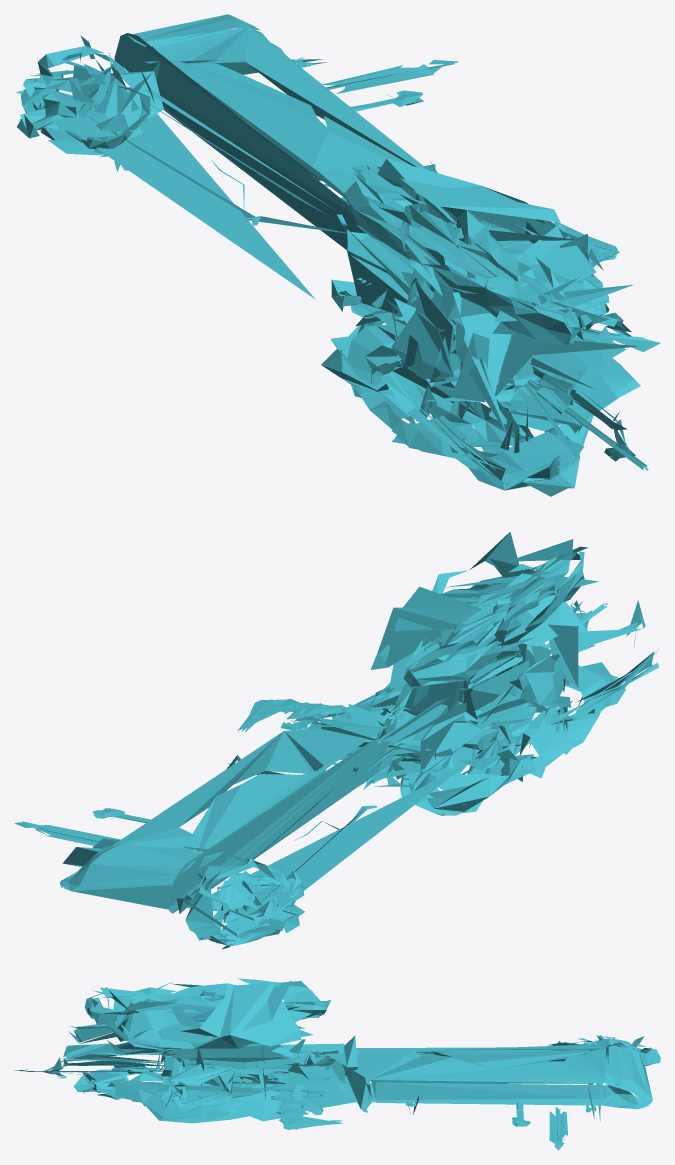
3 views of the same model, one above another, from view 1: azimuth 30°, elevation 25°; view 2: azimuth 150°, elevation 25°; view 3: azimuth 270°, elevation 25° (orthographic). The views are drawn at different scales.
Visible parts, largest first — view 1: Renderer Node; view 2: Renderer Node; view 3: Renderer Node.
Part boxes in pixels (x1,y1,x2,y2): Renderer Node: (16, 14, 660, 496); Renderer Node: (14, 532, 659, 949); Renderer Node: (14, 978, 660, 1150).
Bounding box in the file's own units: 0.8319 × 0.4583 × 2.06.
Materials: 1 (1 with a texture image).
